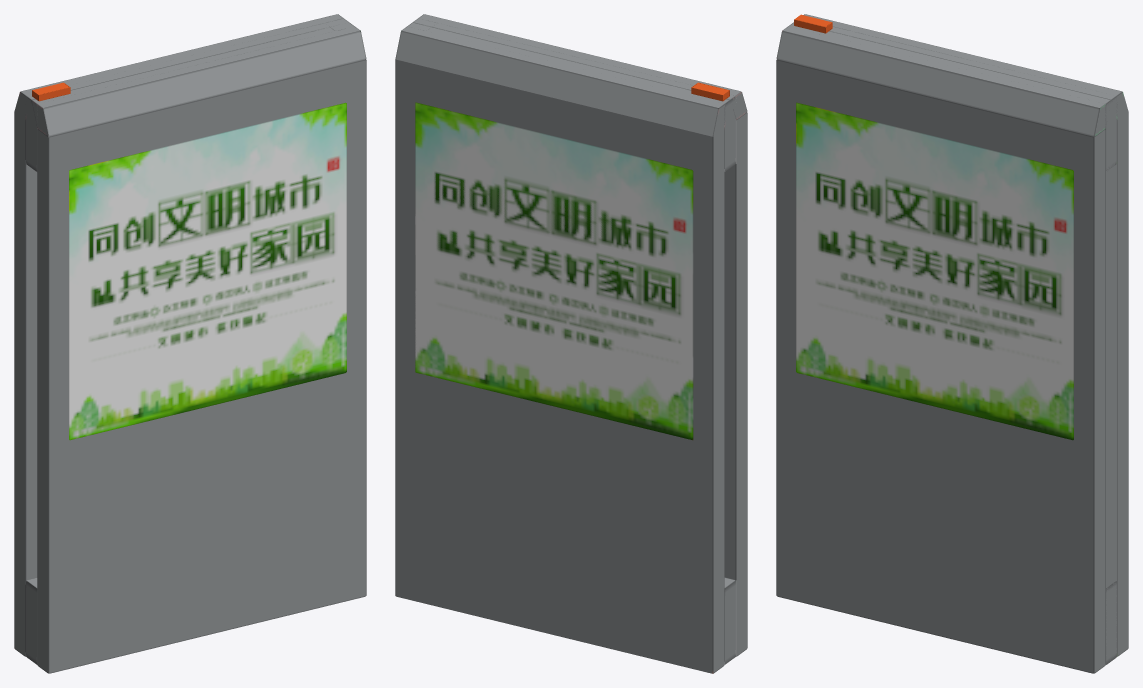
The model's file is right.obj.
The picture shows the model from 3 angles, left to right: view 1: azimuth 30°, elevation 25°; view 2: azimuth 150°, elevation 25°; view 3: azimuth 330°, elevation 25°; orthographic projection.
Visible parts, largest first — view 1: cuboid; view 2: cuboid; view 3: cuboid.
Part boxes in pixels (x1,y1,x2,y2): cuboid: [14, 14, 366, 673]; cuboid: [395, 14, 747, 673]; cuboid: [776, 14, 1128, 673].
Bounding box in the file's own units: 1 × 1.71 × 0.1891.
